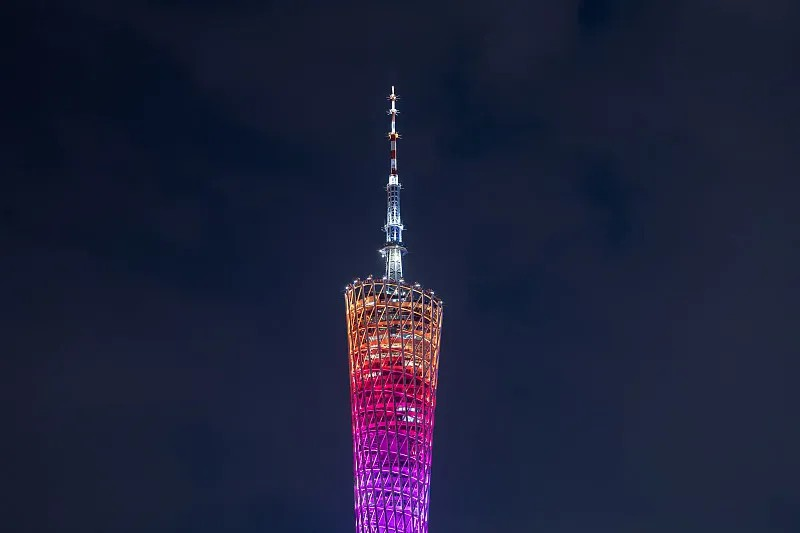Canton: (332, 80, 447, 533)
